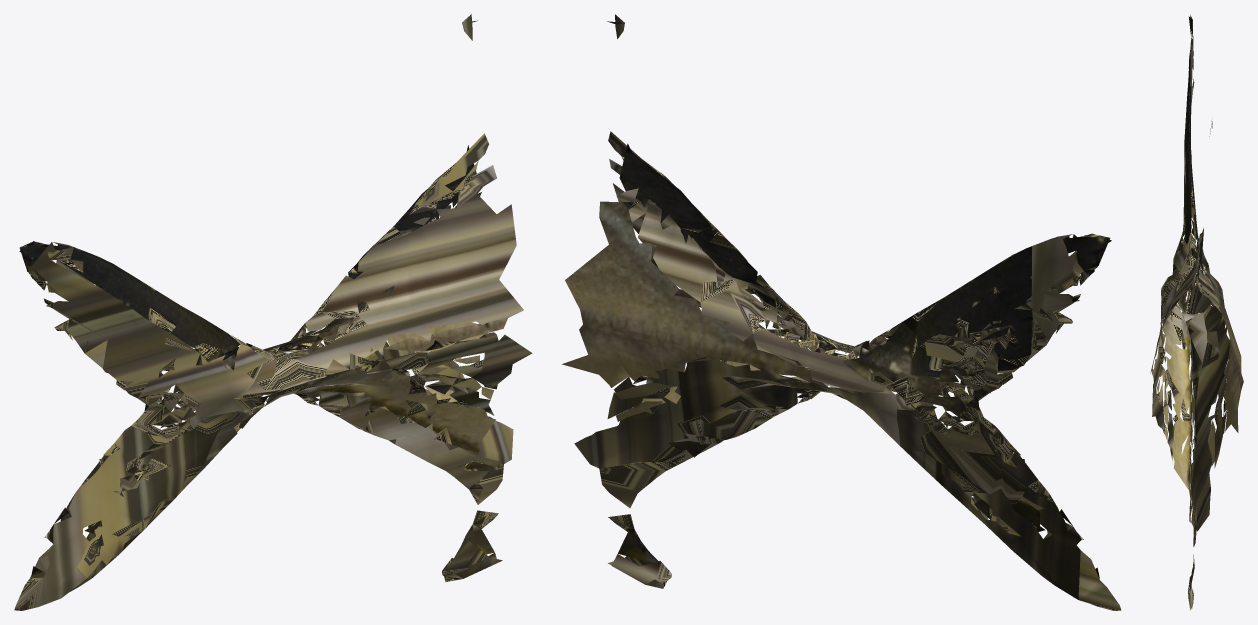
Rendered from gianttrevally_b.glb.
The picture shows the model from 3 angles, left to right: view 1: azimuth 30°, elevation 25°; view 2: azimuth 150°, elevation 25°; view 3: azimuth 270°, elevation 25°; orthographic projection. The views are drawn at different scales.
Visible parts, largest first — view 1: gianttrevally_b; view 2: gianttrevally_b; view 3: gianttrevally_b.
Part boxes in pixels (x1=…): gianttrevally_b: x1=14, y1=14, x2=532, y2=610; gianttrevally_b: x1=562, y1=14, x2=1121, y2=610; gianttrevally_b: x1=1150, y1=14, x2=1243, y2=610.
Size of the model in its own units: 0.4904 by 0.5048 by 0.0868.
Materials: 1 (1 with a texture image).
